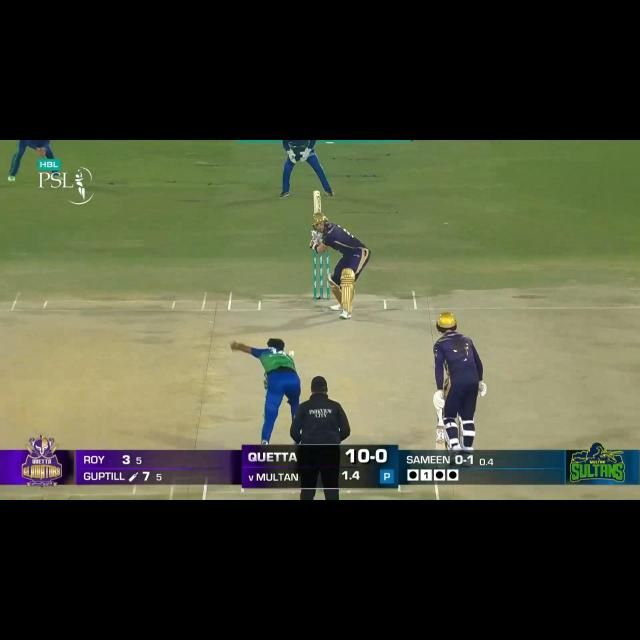bat: (436, 428, 447, 450), (313, 191, 322, 216)
toe: (312, 189, 321, 196)
